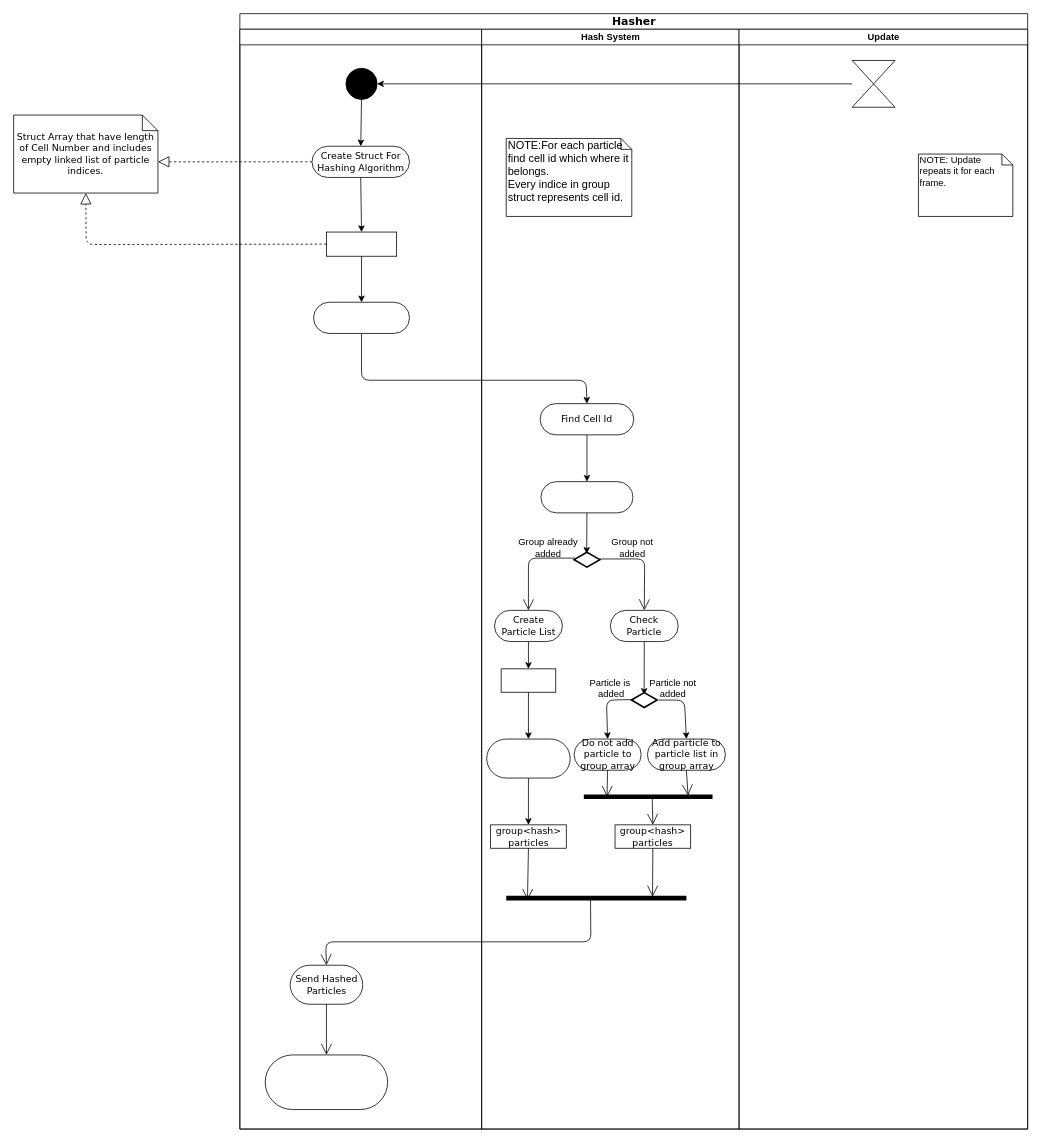
Some shapes in this 1041 by 1143 pixel diagram are drawn without their labels. The shapes that lost their labels are listed below. From the top down, each one's box as (x1, y1, x2, y2) in pixels, then its label:
(326, 231, 397, 256): groups[]<hash>
(313, 301, 410, 333): Send Particles Radius and Groups
(540, 481, 633, 513): Check Cell
(239, 28, 482, 1129): Handler
(500, 668, 556, 692): List<int> particles
(486, 738, 570, 778): Set particle list into group struct array
(264, 1054, 388, 1110): Make other calculations and pass to next frame
